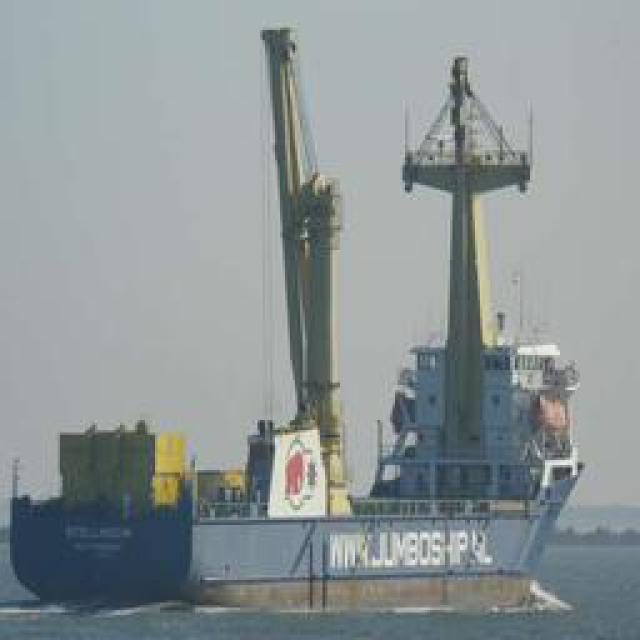Ship: (13, 16, 600, 606)
